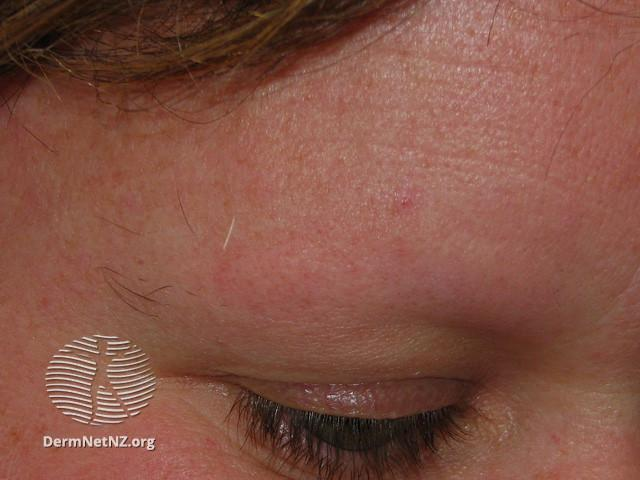Alopecia Areata: (112, 238, 605, 315)
